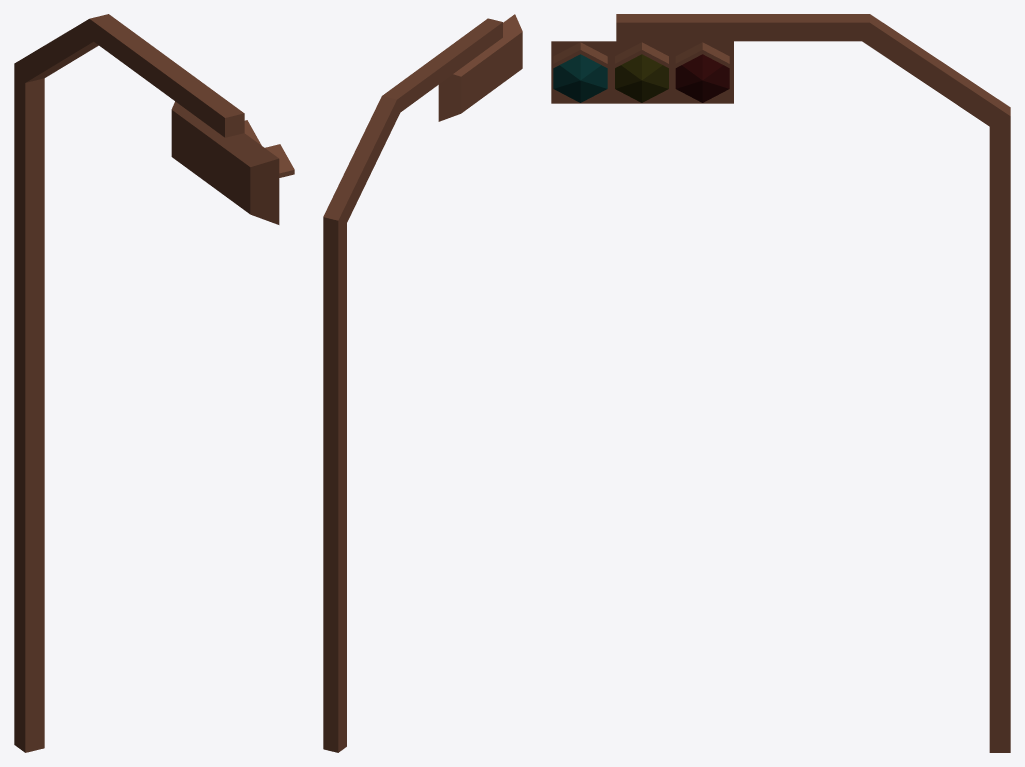
The model's file is Prop_Traffic_Light_A.fbx.
The picture shows the model from 3 angles, left to right: view 1: azimuth 30°, elevation 25°; view 2: azimuth 150°, elevation 25°; view 3: azimuth 270°, elevation 25°; orthographic projection. The views are drawn at different scales.
Parts seen in each view (by area): view 1: Prop_Traffic_Light_A_Pole; view 2: Prop_Traffic_Light_A_Pole; view 3: Prop_Traffic_Light_A_Pole, Prop_Traffic_Light_A_Red, Prop_Traffic_Light_A_Green, Prop_Traffic_Light_A_Yellow.
Part boxes in pixels (x1,y1,x2,y2): Prop_Traffic_Light_A_Pole: [14, 14, 294, 752]; Prop_Traffic_Light_A_Pole: [323, 14, 522, 752]; Prop_Traffic_Light_A_Pole: [551, 14, 1010, 752]; Prop_Traffic_Light_A_Red: [675, 54, 729, 102]; Prop_Traffic_Light_A_Green: [553, 54, 607, 102]; Prop_Traffic_Light_A_Yellow: [615, 54, 668, 102].
Size of the model in its own units: 27.89 by 578 by 330.
